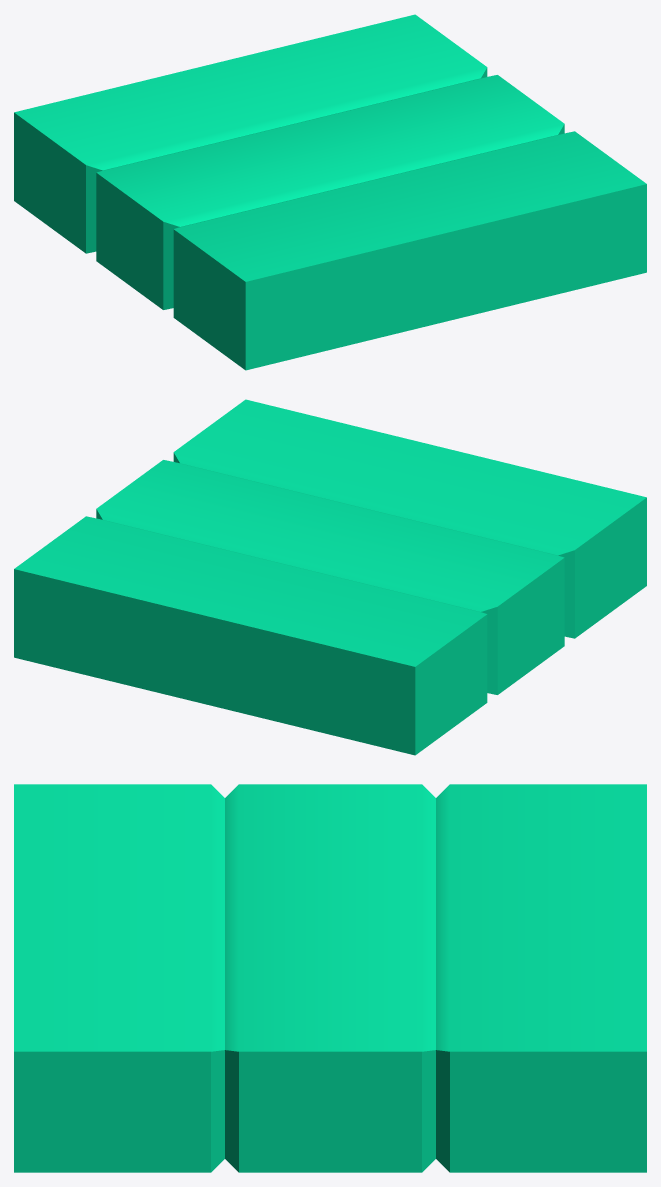
The model's file is Counter_Top_02_S_C03.fbx.
3 renders of one model, top to bottom at view 1: azimuth 30°, elevation 25°; view 2: azimuth 150°, elevation 25°; view 3: azimuth 270°, elevation 25°, orthographic. The views are drawn at different scales.
Parts seen in each view (by area): view 1: Counter_Top_02_S_C03; view 2: Counter_Top_02_S_C03; view 3: Counter_Top_02_S_C03.
Boxes of the visible parts, box(x1,y1,x2,y2) form: Counter_Top_02_S_C03: box(14, 14, 646, 370); Counter_Top_02_S_C03: box(14, 399, 646, 755); Counter_Top_02_S_C03: box(14, 784, 646, 1172).
Bounding box in the file's own units: 100 × 21.09 × 100.
